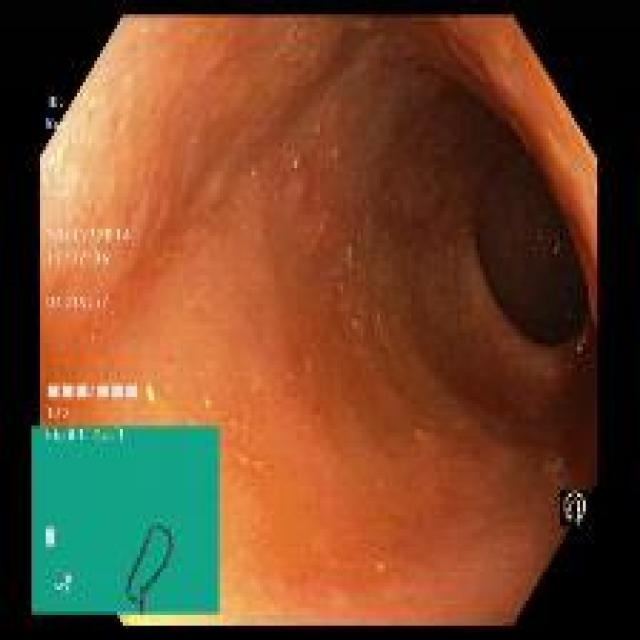ulcerative-colitis: (40, 17, 596, 623)
